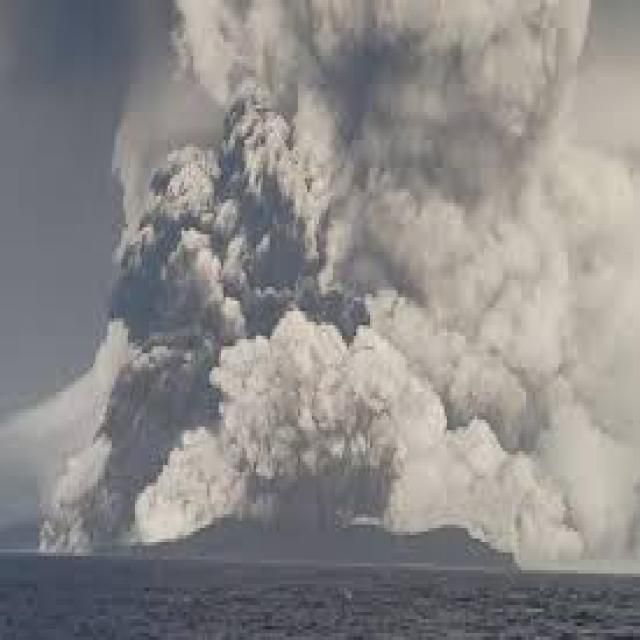explosion: (81, 0, 633, 612)
